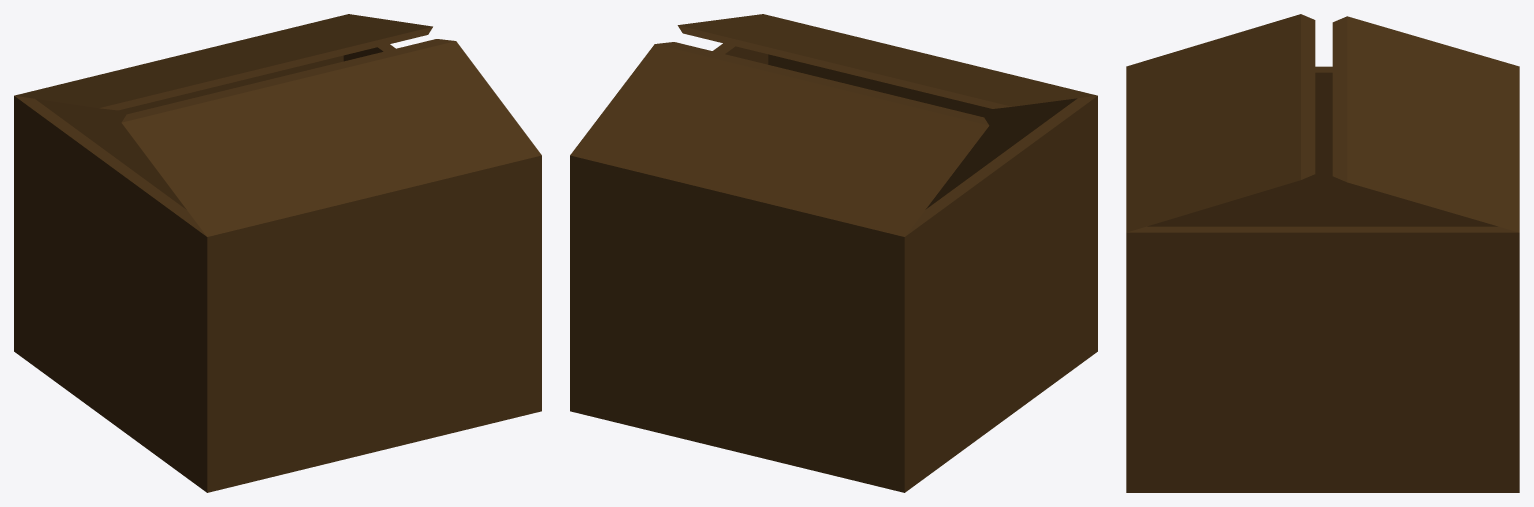
Rendered from Carton.fbx.
3 renders of one model, left to right at view 1: azimuth 30°, elevation 25°; view 2: azimuth 150°, elevation 25°; view 3: azimuth 270°, elevation 25°, orthographic.
Visible parts, largest first — view 1: Cube; view 2: Cube; view 3: Cube.
Boxes of the visible parts, left/top/right/bottom form: Cube: left=14, top=14, right=541, bottom=492; Cube: left=570, top=14, right=1097, bottom=492; Cube: left=1126, top=14, right=1519, bottom=492.
Bounding box in the file's own units: 200 × 176 × 200.
